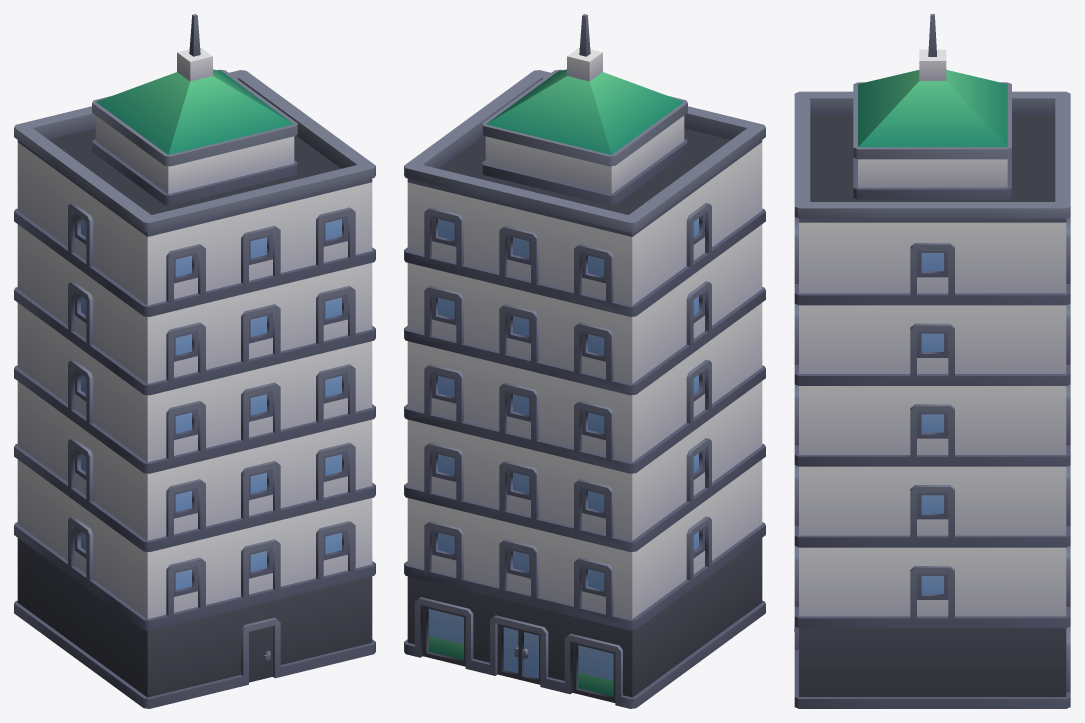
Rendered from k_c_building-m.glb.
3 views of the same model, side by side, from view 1: azimuth 30°, elevation 25°; view 2: azimuth 150°, elevation 25°; view 3: azimuth 270°, elevation 25° (orthographic). The views are drawn at different scales.
Parts seen in each view (by area): view 1: building-m; view 2: building-m; view 3: building-m.
Boxes of the visible parts, x1,y1,x2,y2 form: building-m: [14, 14, 375, 708]; building-m: [404, 14, 765, 708]; building-m: [794, 14, 1070, 708].
Size of the model in its own units: 1.24 by 3.15 by 1.24.
Materials: 1 (1 with a texture image).
